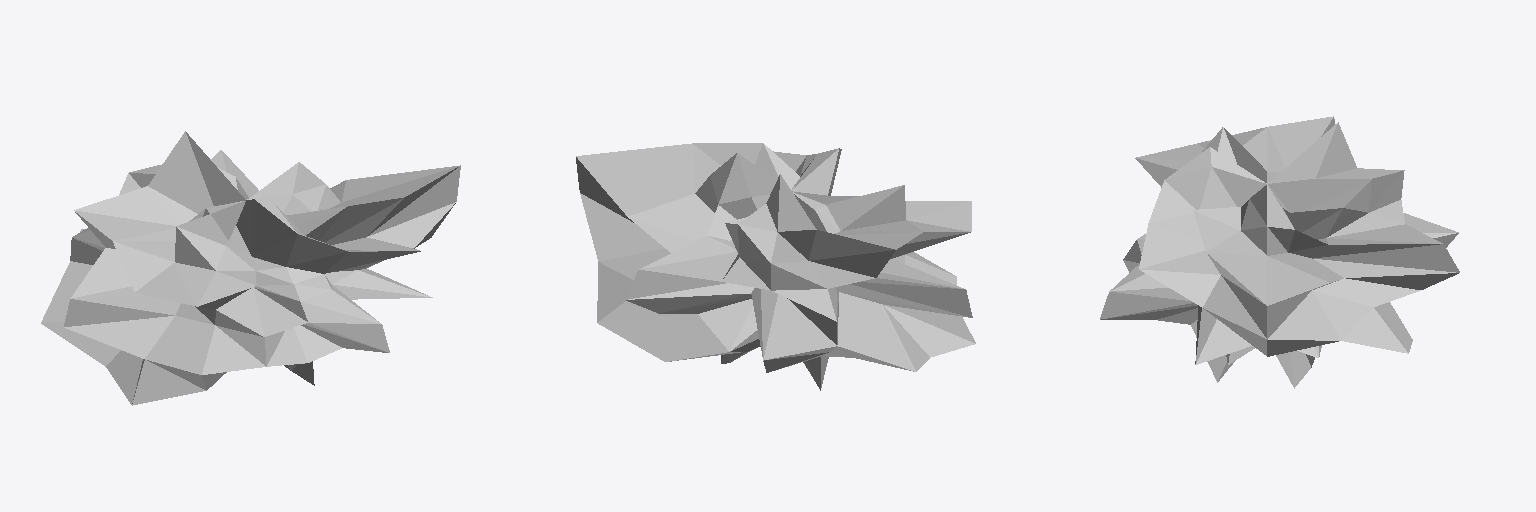
File: rock8.Obj
3 views of the same model, side by side, from view 1: azimuth 30°, elevation 25°; view 2: azimuth 150°, elevation 25°; view 3: azimuth 270°, elevation 25° (orthographic).
Parts seen in each view (by area): view 1: default; view 2: default; view 3: default.
Part boxes in pixels (x1,y1,x2,y2): default: (41, 131, 460, 405); default: (576, 143, 975, 390); default: (1100, 116, 1459, 388).
Size of the model in its own units: 1.51 by 0.8284 by 1.19.